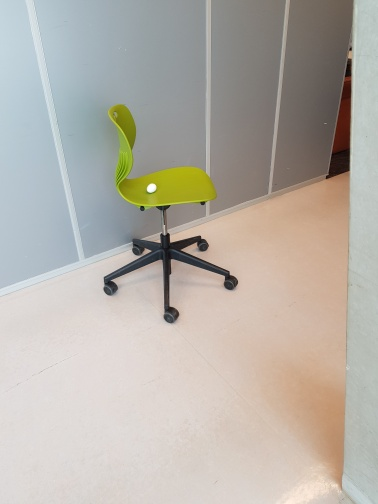egg: (144, 181, 160, 194)
